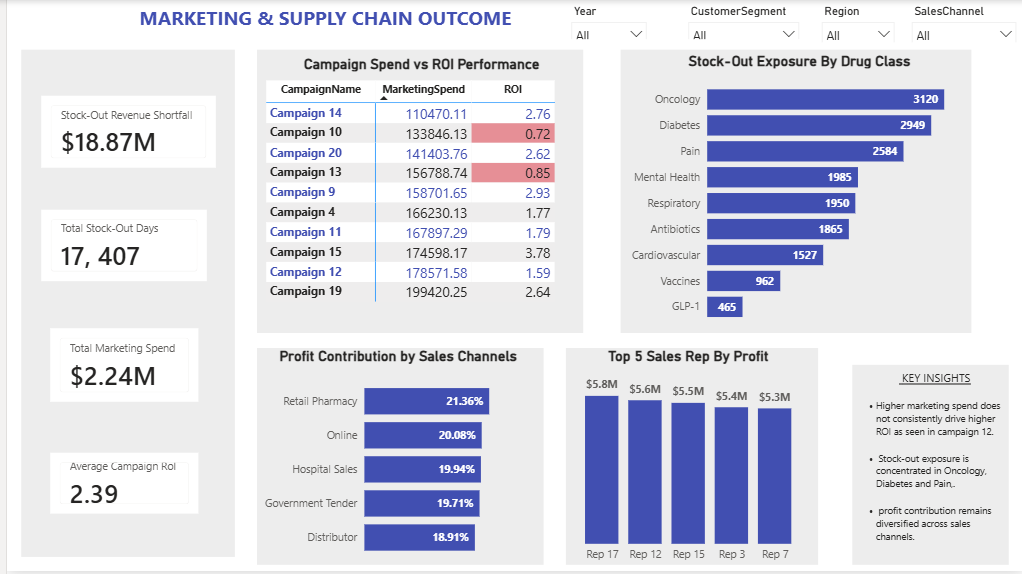

The dashboard page shown, as its layout file describes it:
{"tool":"powerbi","page":{"name":"Marketing and Supply Chain","canvas":[1280,720],"ordinal":3},"visuals":[{"type":"cardVisual","fields":{"Data":["Dim_Channel.Total Marketing Spend"]},"box":[49.3,408.8,197.2,103.4],"z":0},{"type":"cardVisual","fields":{"Data":["Dim_Channel.Average Campaign RoI"]},"box":[49.3,564.7,197.2,87.5],"z":1000},{"type":"cardVisual","fields":{"Data":["Dim_Channel.Total Stock Days Display"]},"box":[38.2,259.3,219.5,100.2],"z":2000},{"type":"cardVisual","fields":{"Data":["Dim_Channel.Potential Revenue Shortfall"]},"box":[38.2,114.5,230.6,101.8],"z":3000},{"type":"pivotTable","title":"Campaign Spend vs ROI Performance","fields":{"Rows":["Dim_Market.CampaignName"],"Values":["Sum(Dim_Market.MarketingSpend)","Avg(Dim_Market.ROI)"]},"box":[321.3,70,402.4,348.3],"z":4000},{"type":"clusteredBarChart","title":"Stock-Out Exposure By Drug Class","fields":{"Y":["Sum(Fact_Sales.StockOutDays)"],"Category":["Dim_Product.DrugClass","Dim_Product.ProductName"]},"box":[774.6,66.8,447,351.5],"z":5000},{"type":"columnChart","title":"Top 5 Sales Rep By Profit","fields":{"Category":["Dim_SalesRep.SalesRepName"],"Y":["_Measures.Total Profit"]},"box":[701.5,439,314.9,278.4],"z":6000},{"type":"slicer","fields":{"Values":["Dim_Date.Year"]},"box":[701.5,0,114.5,49.3],"z":7000},{"type":"slicer","fields":{"Values":["Dim_Customer.CustomerSegment"]},"box":[847.8,0,159.1,49.3],"z":8000},{"type":"slicer","fields":{"Values":["Dim_Region.Region"]},"box":[1016.4,0,111.1,53.6],"z":9000},{"type":"slicer","fields":{"Values":["Dim_Channel.SalesChannel"]},"box":[1129.3,0,151.3,53.6],"z":10000},{"type":"clusteredBarChart","title":"Profit Contribution by Sales Channels","fields":{"Category":["Dim_Channel.SalesChannel"],"Y":["Dim_Channel.Sales Channel Profit Contribution %"]},"box":[310.2,439,365.8,278.4],"z":11000},{"type":"textbox","box":[1071.5,461.1,194.6,241.9],"z":12000},{"type":"textbox","box":[143.2,0,515.2,49.8],"z":13000}]}

Visuals, with their boxes in screenshot pixels (x1, y1, x2, y2), scaled from the page's 1280x720 canvas onto the 1022x574 screenshot:
cardVisual - Dim_Channel.Total Marketing Spend: bbox=[39, 326, 197, 408]
cardVisual - Dim_Channel.Average Campaign RoI: bbox=[39, 450, 197, 520]
cardVisual - Dim_Channel.Total Stock Days Display: bbox=[31, 207, 206, 287]
cardVisual - Dim_Channel.Potential Revenue Shortfall: bbox=[31, 91, 215, 172]
"Campaign Spend vs ROI Performance" pivotTable: bbox=[257, 56, 578, 333]
"Stock-Out Exposure By Drug Class" clusteredBarChart: bbox=[618, 53, 975, 333]
"Top 5 Sales Rep By Profit" columnChart: bbox=[560, 350, 812, 572]
slicer - Dim_Date.Year: bbox=[560, 0, 652, 39]
slicer - Dim_Customer.CustomerSegment: bbox=[677, 0, 804, 39]
slicer - Dim_Region.Region: bbox=[812, 0, 900, 43]
slicer - Dim_Channel.SalesChannel: bbox=[902, 0, 1021, 43]
"Profit Contribution by Sales Channels" clusteredBarChart: bbox=[248, 350, 540, 572]
textbox: bbox=[856, 368, 1011, 560]
textbox: bbox=[114, 0, 526, 40]
